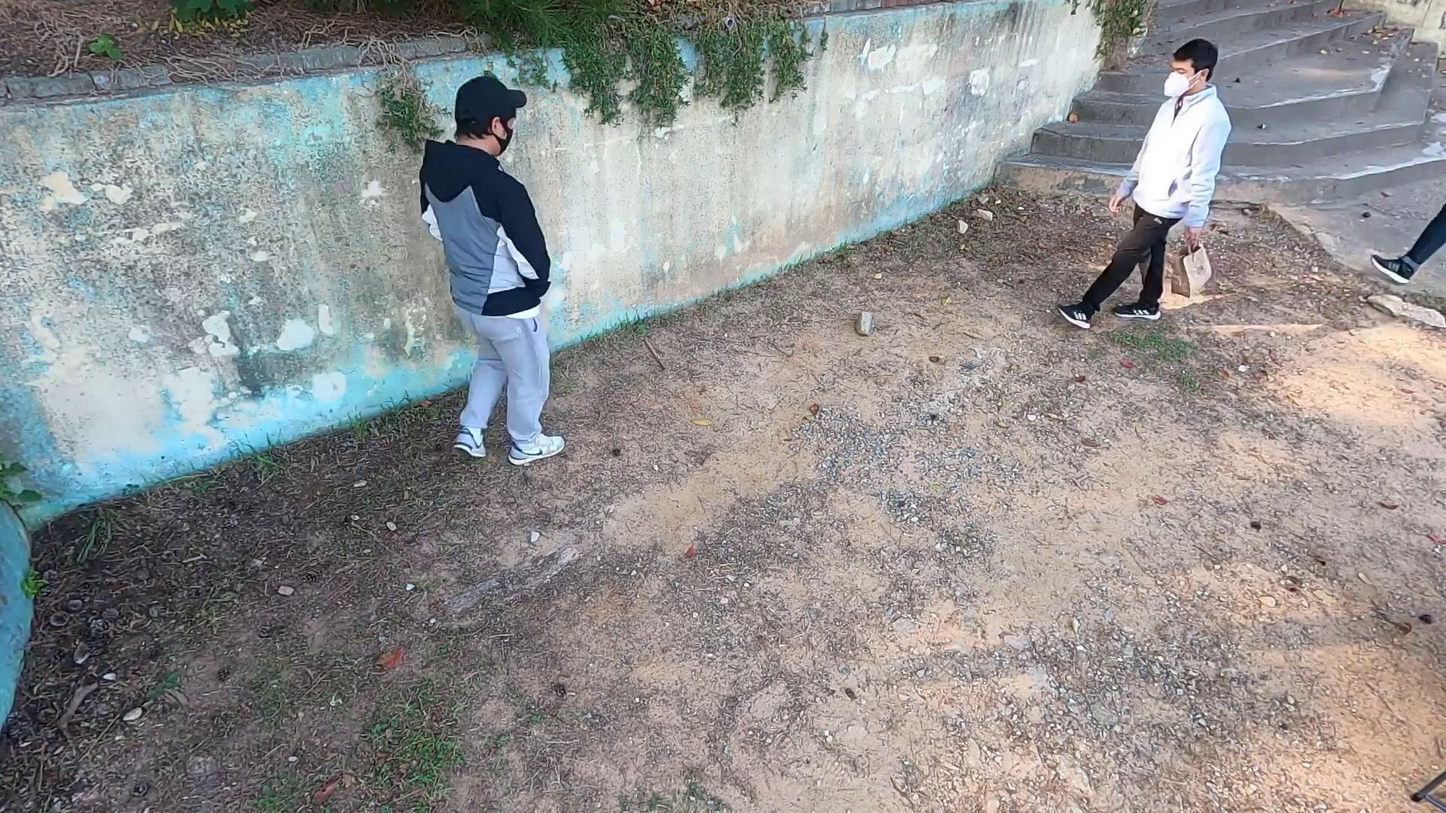person: (413, 69, 580, 476), (1061, 33, 1236, 332)
trash: (1165, 234, 1216, 298)
